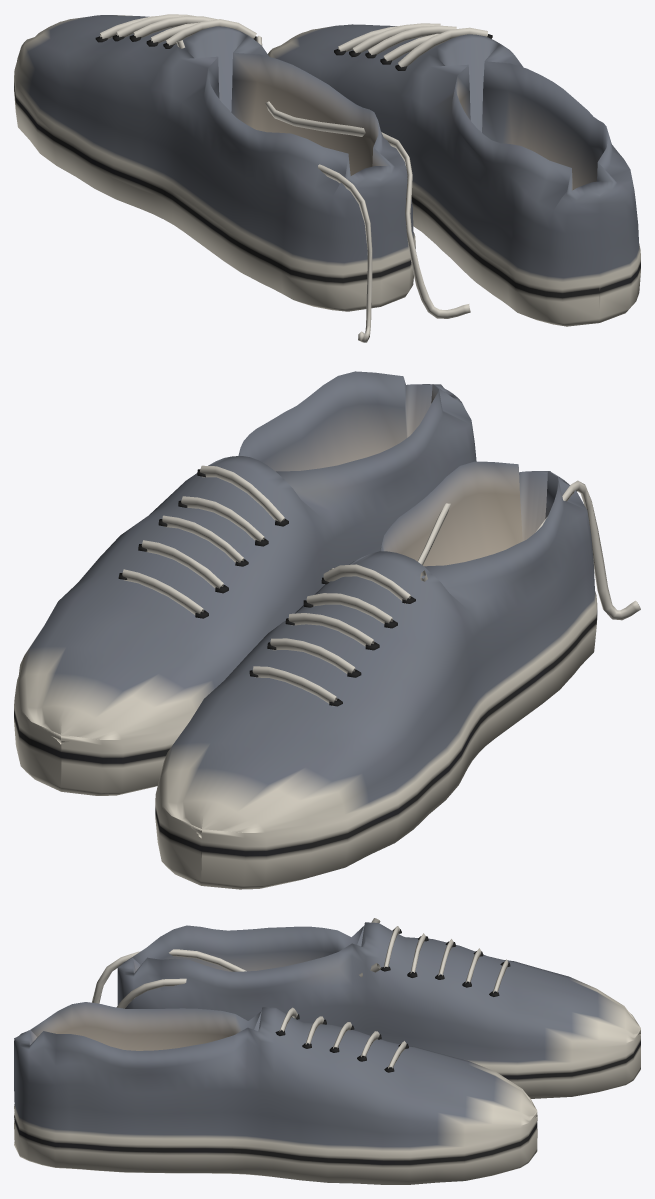
File: sneakers_door.glb
3 views of the same model, one above another, from view 1: azimuth 30°, elevation 25°; view 2: azimuth 150°, elevation 25°; view 3: azimuth 270°, elevation 25° (orthographic). The views are drawn at different scales.
Visible parts, largest first — view 1: sneakers_door; view 2: sneakers_door; view 3: sneakers_door.
Part boxes in pixels (bbox=[...]): sneakers_door: bbox=[14, 14, 640, 342]; sneakers_door: bbox=[14, 371, 640, 889]; sneakers_door: bbox=[14, 918, 640, 1184].
Size of the model in its own units: 0.173 by 0.0791 by 0.303.
